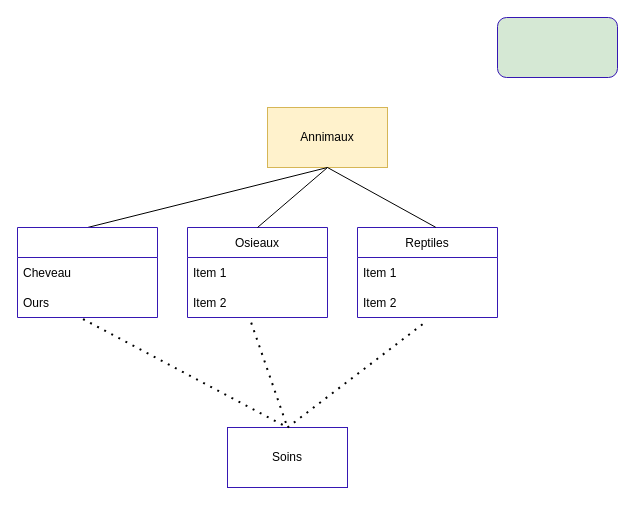
The diagram is 635 pixels wide and 505 high, and some of its shapes have lost their labels. Each missing label, with the box of its shape:
Mammifères: (16, 226, 158, 318)
Zoo: (496, 16, 618, 78)
